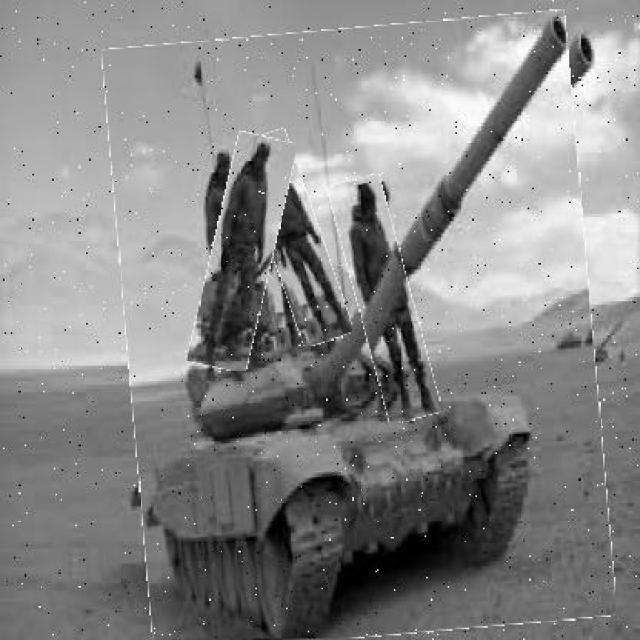Person: (343, 177, 427, 426), (201, 133, 286, 372), (254, 130, 340, 349)
Tank: (115, 18, 607, 639)
